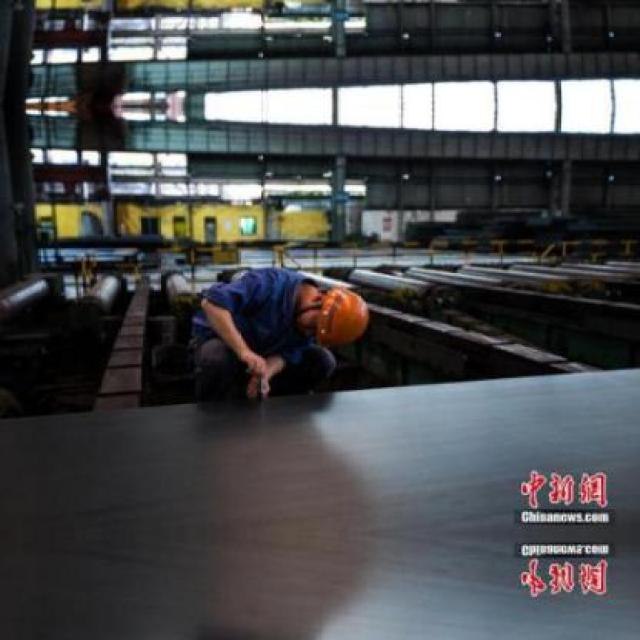helmet: (290, 279, 378, 346)
